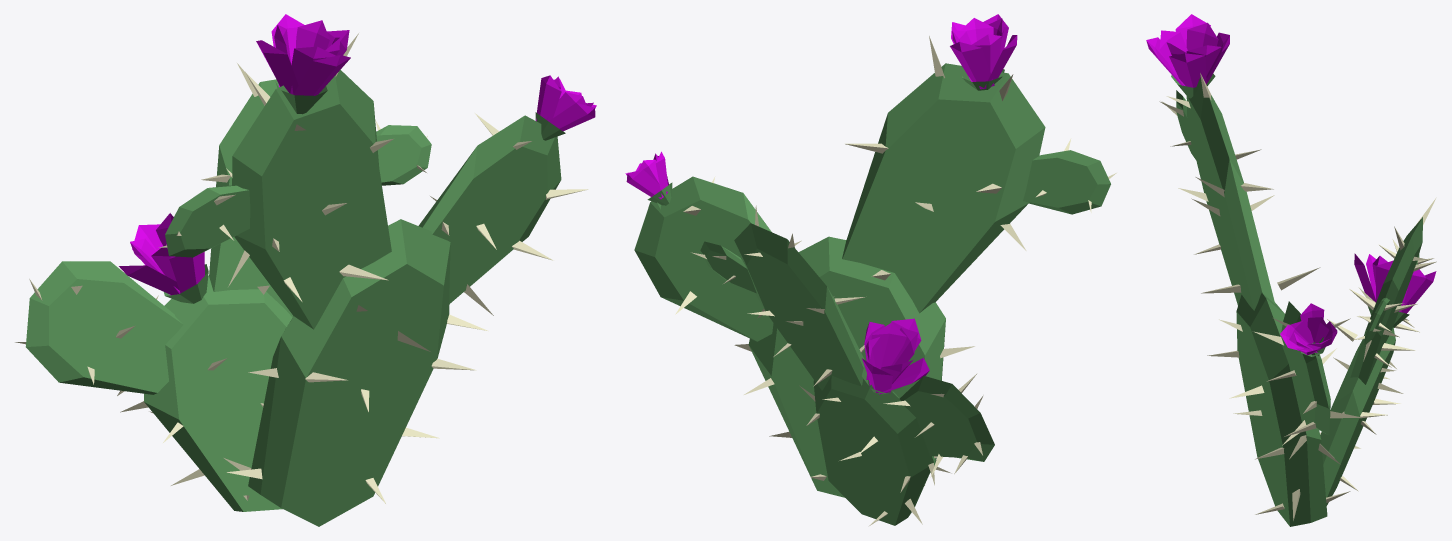
The model's file is Cactus_Flower_002.fbx.
3 views of the same model, side by side, from view 1: azimuth 30°, elevation 25°; view 2: azimuth 150°, elevation 25°; view 3: azimuth 270°, elevation 25° (orthographic). The views are drawn at different scales.
Visible parts, largest first — view 1: Cactus_Flower_002; view 2: Cactus_Flower_002; view 3: Cactus_Flower_002.
Boxes of the visible parts, left/top/right/bottom form: Cactus_Flower_002: left=15, top=14, right=596, bottom=526; Cactus_Flower_002: left=625, top=14, right=1116, bottom=525; Cactus_Flower_002: left=1146, top=14, right=1436, bottom=526.
Size of the model in its own units: 1.85 by 1.91 by 1.11.
